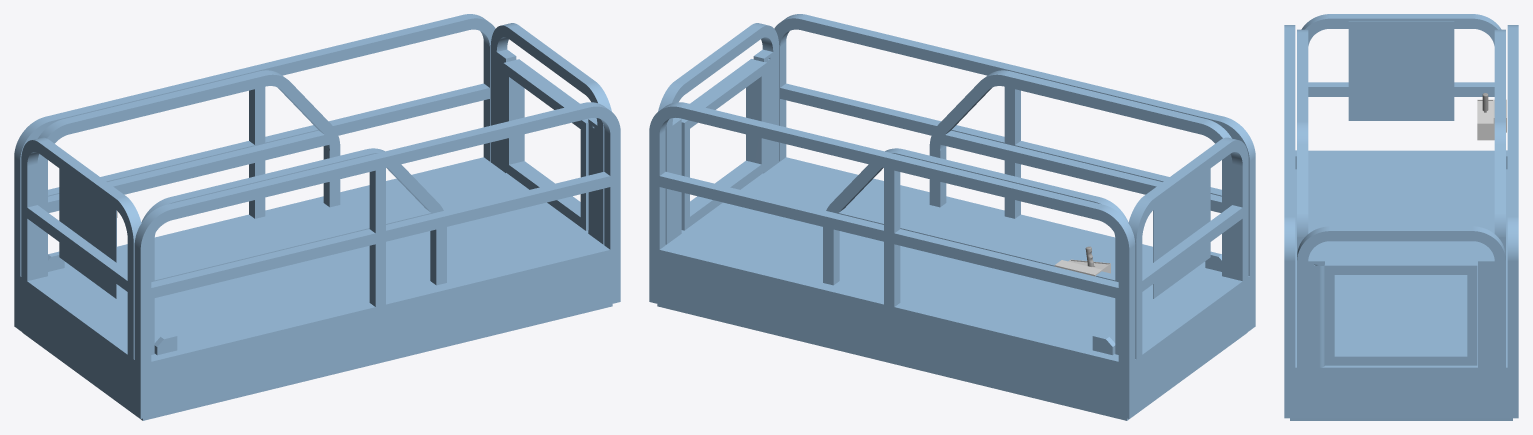
The picture shows the model from 3 angles, left to right: view 1: azimuth 30°, elevation 25°; view 2: azimuth 150°, elevation 25°; view 3: azimuth 270°, elevation 25°; orthographic projection. The views are drawn at different scales.
Visible parts, largest first — view 1: mesh4.001; view 2: mesh4.001; view 3: mesh4.001.
Boxes of the visible parts, x1,y1,x2,y2 form: mesh4.001: [14, 14, 620, 420]; mesh4.001: [649, 14, 1255, 420]; mesh4.001: [1284, 14, 1518, 420].
Size of the model in its own units: 37.3 by 15.33 by 16.94.
